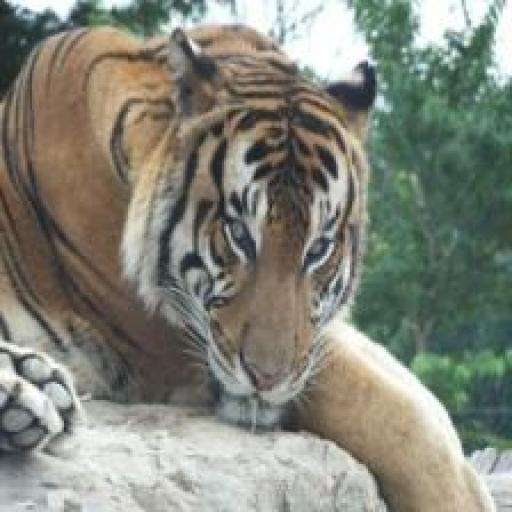Tiger: (0, 12, 496, 500)
